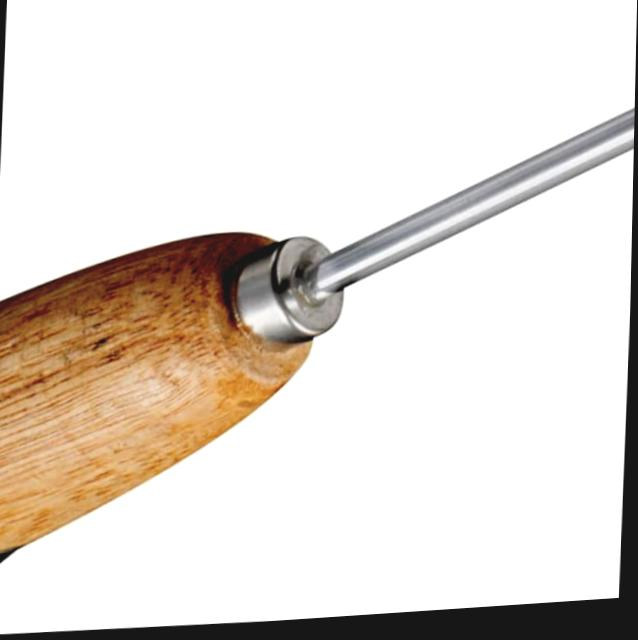ice pick: (0, 81, 636, 602)
